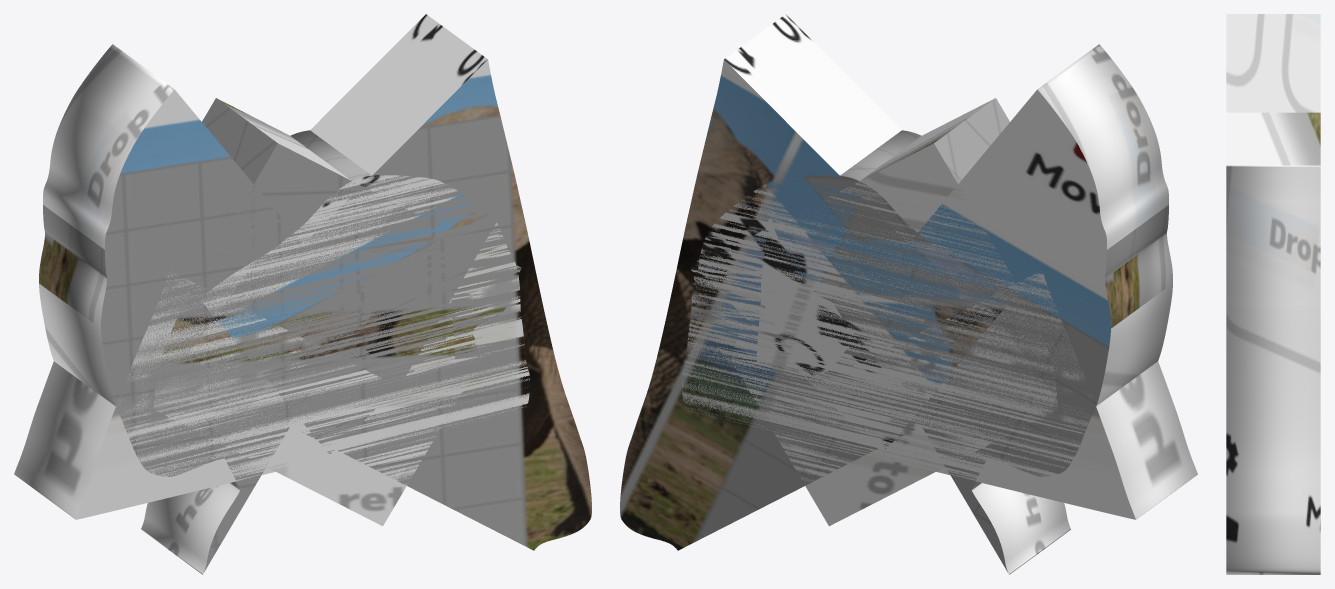
The model's file is shaped1.fbx.
3 renders of one model, left to right at view 1: azimuth 30°, elevation 25°; view 2: azimuth 150°, elevation 25°; view 3: azimuth 270°, elevation 25°, orthographic. The views are drawn at different scales.
Parts seen in each view (by area): view 1: path1, path1.002, path1.003, path1.001; view 2: path1, path1.002, path1.003, path1.001; view 3: path1, path1.002.
Boxes of the visible parts, x1,y1,x2,y2 form: path1: [39, 14, 591, 574]; path1.002: [153, 98, 521, 526]; path1.003: [14, 223, 529, 519]; path1.001: [201, 130, 513, 453]; path1: [620, 14, 1172, 574]; path1.002: [691, 98, 1058, 526]; path1.003: [682, 222, 1197, 519]; path1.001: [698, 130, 1010, 454]; path1: [1226, 14, 1320, 574]; path1.002: [1226, 112, 1320, 165].
Bounding box in the file's own units: 78.59 × 79.93 × 16.37.
